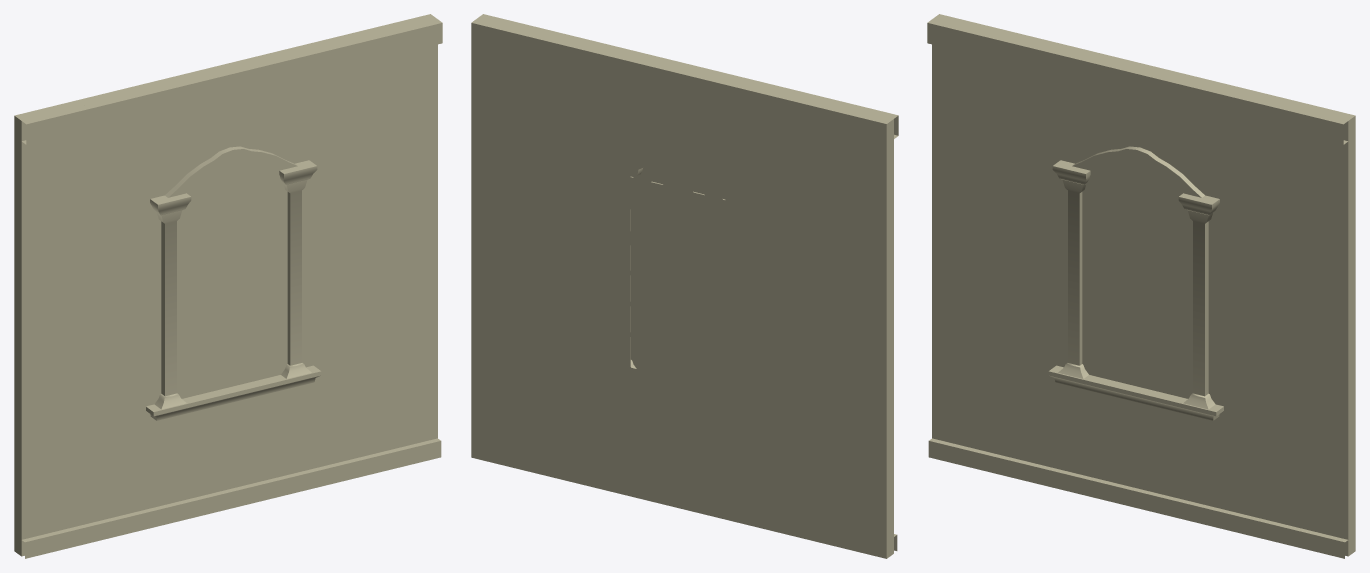
File: Homeworld_Interior_Md_Room_Wall_03_Vo.fbx
3 renders of one model, left to right at view 1: azimuth 30°, elevation 25°; view 2: azimuth 150°, elevation 25°; view 3: azimuth 330°, elevation 25°, orthographic.
Visible parts, largest first — view 1: Homeworld_Interior_Md_Room_Wall_03_Vo; view 2: Homeworld_Interior_Md_Room_Wall_03_Vo; view 3: Homeworld_Interior_Md_Room_Wall_03_Vo.
Part boxes in pixels (box(x1,y1,x2,y2)): Homeworld_Interior_Md_Room_Wall_03_Vo: box(14, 14, 442, 558); Homeworld_Interior_Md_Room_Wall_03_Vo: box(471, 14, 898, 558); Homeworld_Interior_Md_Room_Wall_03_Vo: box(927, 14, 1355, 558).
Size of the model in its own units: 5 by 5 by 0.3365.
